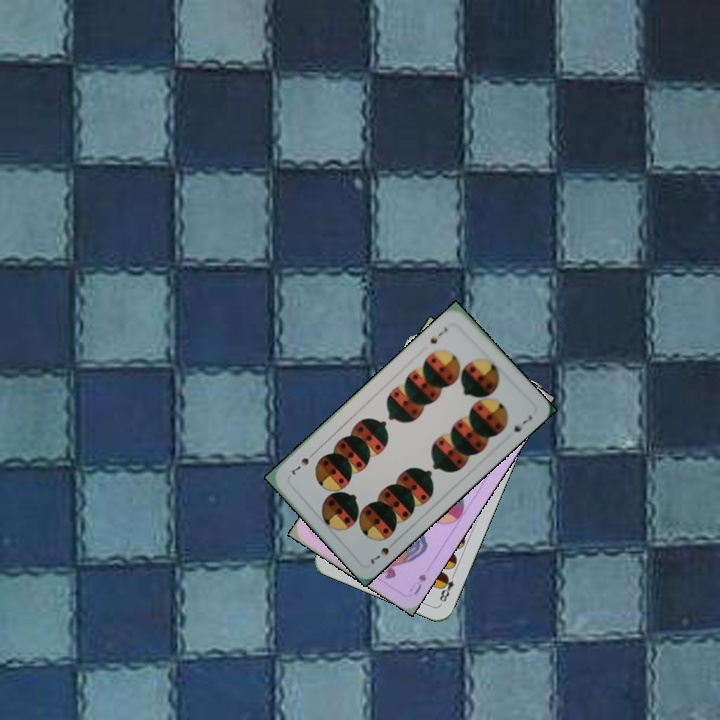E8: (435, 568, 458, 607)
S7: (366, 543, 392, 567), (426, 323, 450, 347)
SU: (405, 570, 429, 598)
